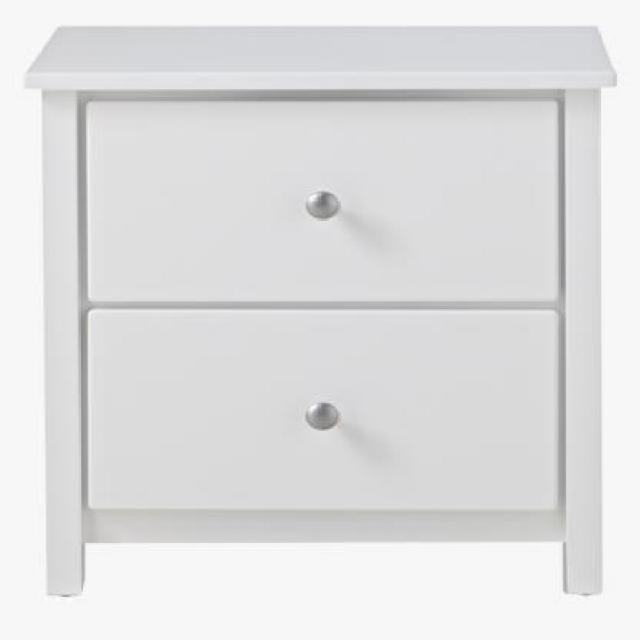table: (23, 23, 620, 594)
